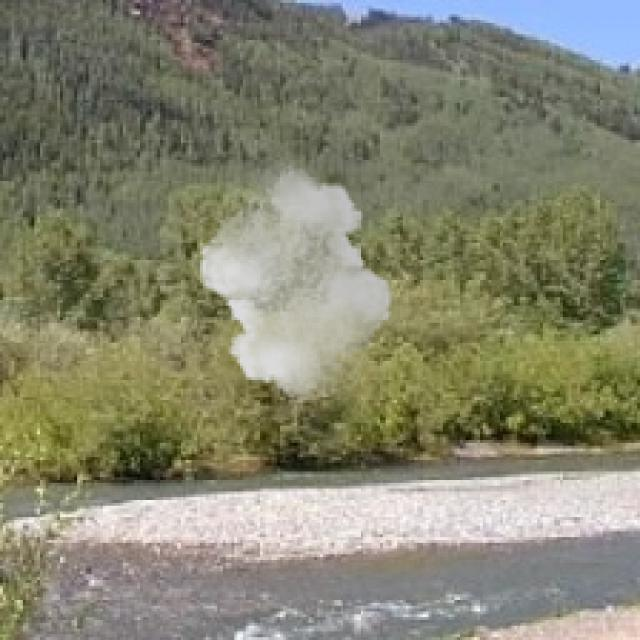smoke: (191, 163, 400, 403)
